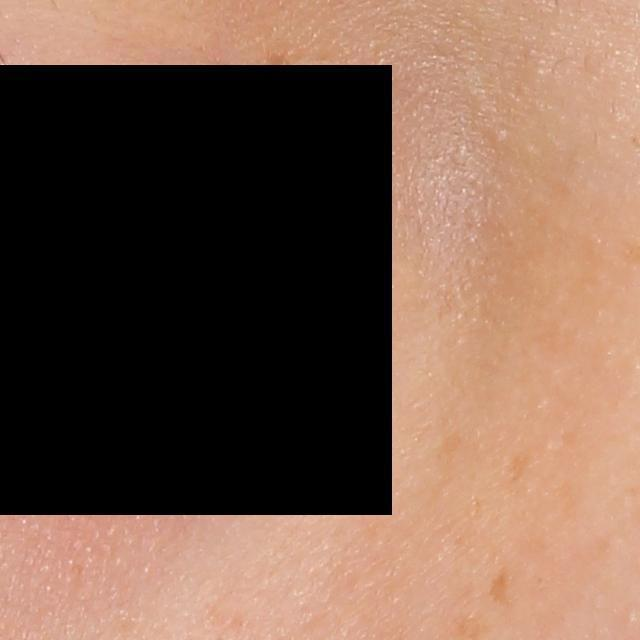melasma: (484, 565, 512, 608), (507, 446, 530, 483)
